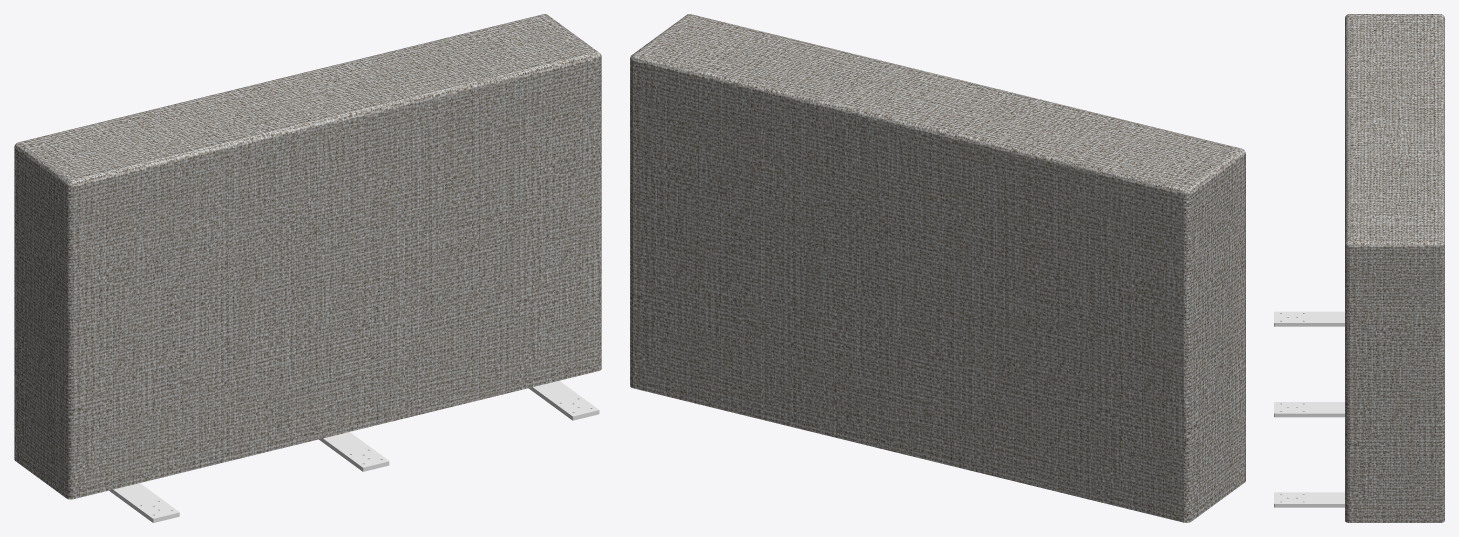
The picture shows the model from 3 angles, left to right: view 1: azimuth 30°, elevation 25°; view 2: azimuth 150°, elevation 25°; view 3: azimuth 270°, elevation 25°; orthographic projection. The views are drawn at different scales.
Visible parts, largest first — view 1: 9a064644-bc34-46dd-adb0-08cf214651ce, 473d58c7-bf1e-4444-9e4f-757cc239eb90; view 2: 9a064644-bc34-46dd-adb0-08cf214651ce; view 3: 9a064644-bc34-46dd-adb0-08cf214651ce, 473d58c7-bf1e-4444-9e4f-757cc239eb90.
Boxes of the visible parts, <box> form: 9a064644-bc34-46dd-adb0-08cf214651ce: <box>14,14,601,499</box>; 473d58c7-bf1e-4444-9e4f-757cc239eb90: <box>109,380,599,522</box>; 9a064644-bc34-46dd-adb0-08cf214651ce: <box>630,14,1245,522</box>; 9a064644-bc34-46dd-adb0-08cf214651ce: <box>1345,14,1444,522</box>; 473d58c7-bf1e-4444-9e4f-757cc239eb90: <box>1274,311,1344,507</box>.
Bounding box in the file's own units: 1.2 × 0.6965 × 0.3761.
Materials: 3 (2 with a texture image).
